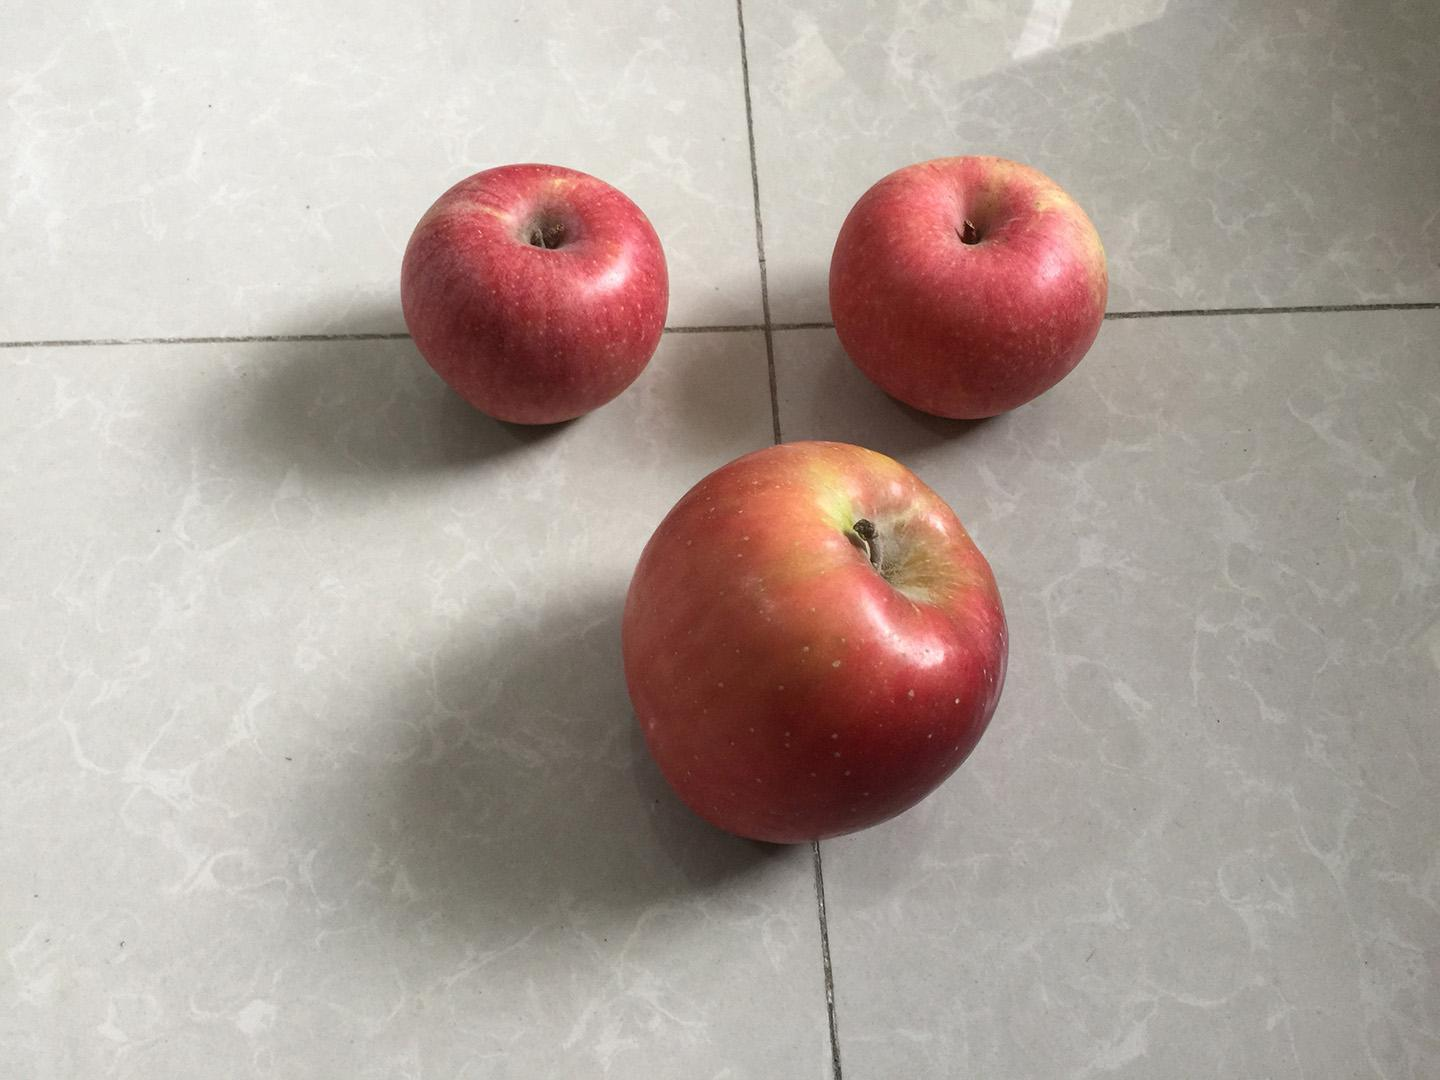apple: (610, 423, 1019, 849), (818, 146, 1123, 428), (393, 155, 677, 431)
